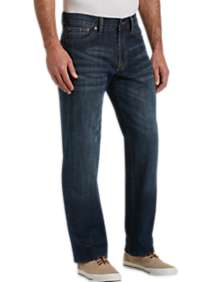jeans: (38, 7, 203, 261)
